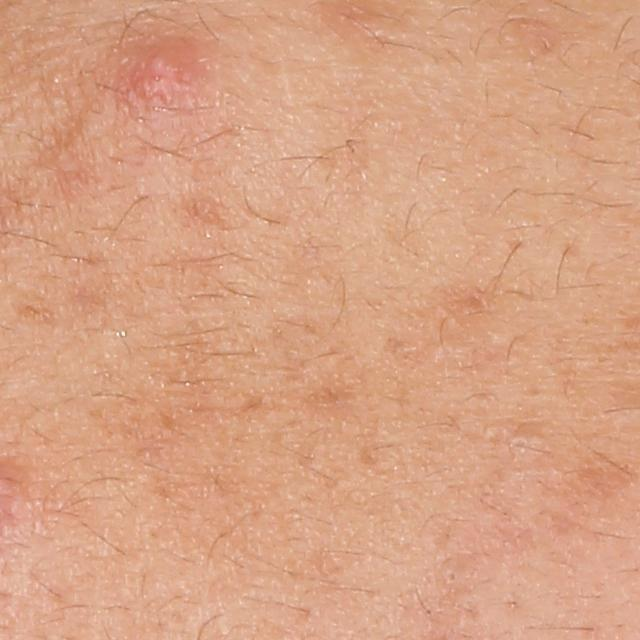comedo: (505, 430, 530, 459), (442, 566, 458, 585)
papule: (119, 36, 197, 112)
